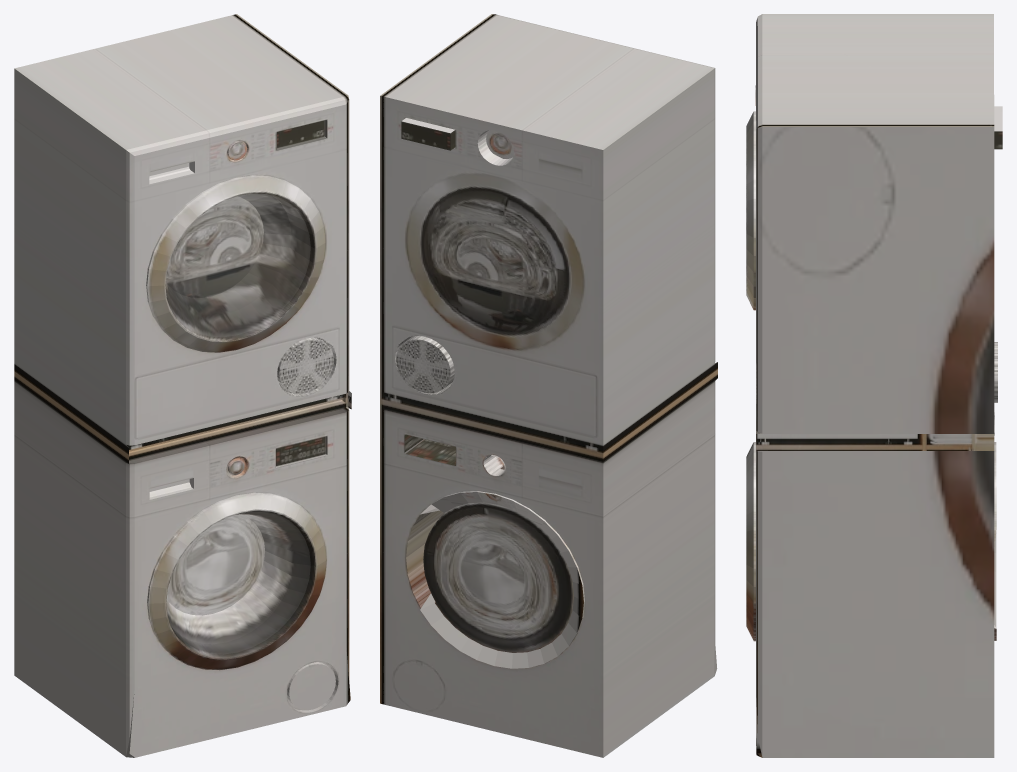
The model's file is washing machines.glb.
The picture shows the model from 3 angles, left to right: view 1: azimuth 30°, elevation 25°; view 2: azimuth 150°, elevation 25°; view 3: azimuth 270°, elevation 25°; orthographic projection. The views are drawn at different scales.
Visible parts, largest first — view 1: Cube.032; view 2: Cube.032; view 3: Cube.032.
Part boxes in pixels (box(x1,y1,x2,y2)): Cube.032: box(14, 14, 351, 757); Cube.032: box(380, 14, 717, 757); Cube.032: box(746, 14, 1002, 757).
Bounding box in the file's own units: 0.8145 × 2.12 × 0.7806.
2 materials, 1 textured.
